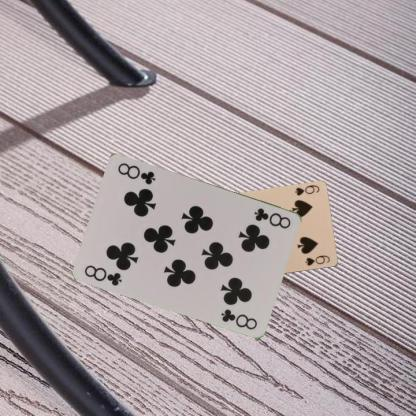6s: (292, 183, 321, 197)
8c: (82, 262, 124, 287), (252, 205, 292, 230)
